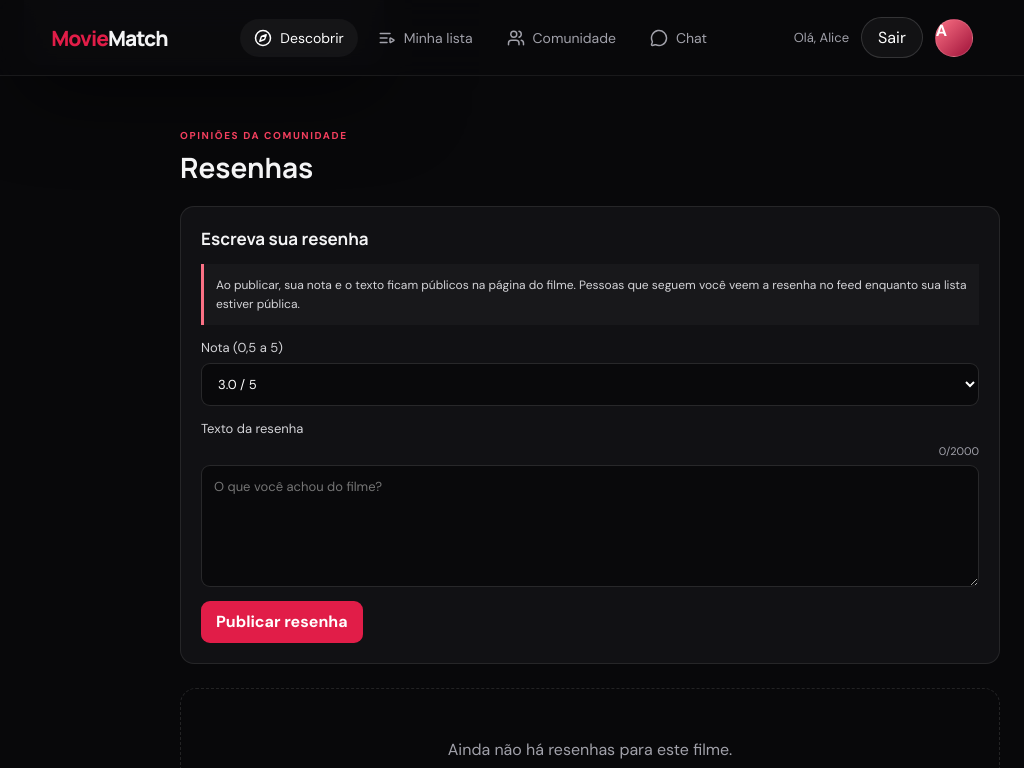
MovieMatch home › creates, edits, and removes the signed-in user movie review
(page scrolled)
Expected: the heading "Escreva sua resenha" is shown, x1=201 y1=227 x2=369 y2=250
Expected: the text "Ao publicar, sua nota e o texto ficam públicos na página do filme" is shown, x1=216 y1=277 x2=966 y2=312
Select "4.5 / 5" in the dropdown labelled "Nota (0,5 a 5)" at (590, 385), box x1=201 y1=363 x2=979 y2=406
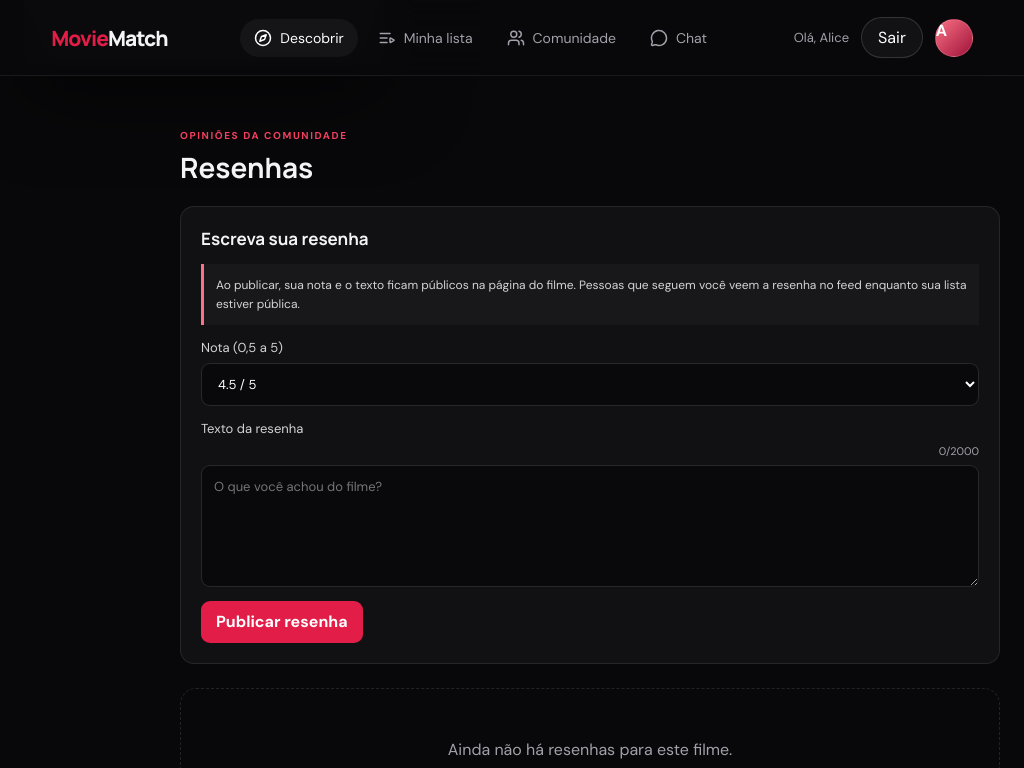
Type "Uma ótima história." into the text box labelled "Texto da resenha 0/2000" at (590, 526), box x1=201 y1=465 x2=979 y2=587
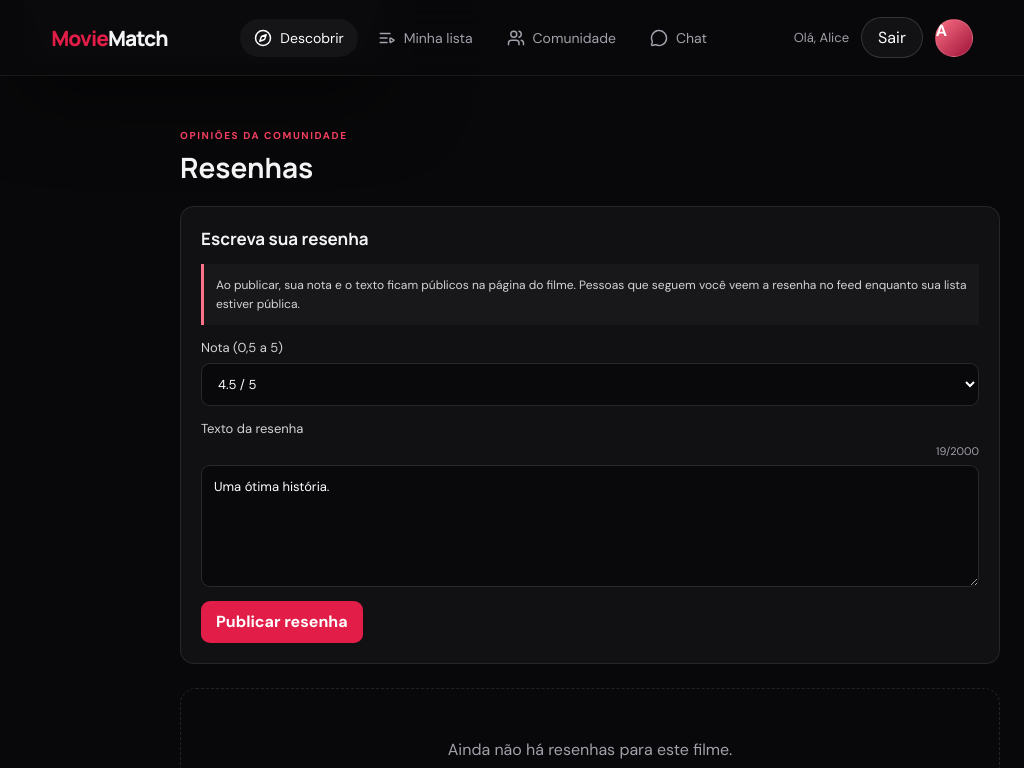
Click the button "Publicar resenha" at (282, 622), box x1=201 y1=601 x2=362 y2=643
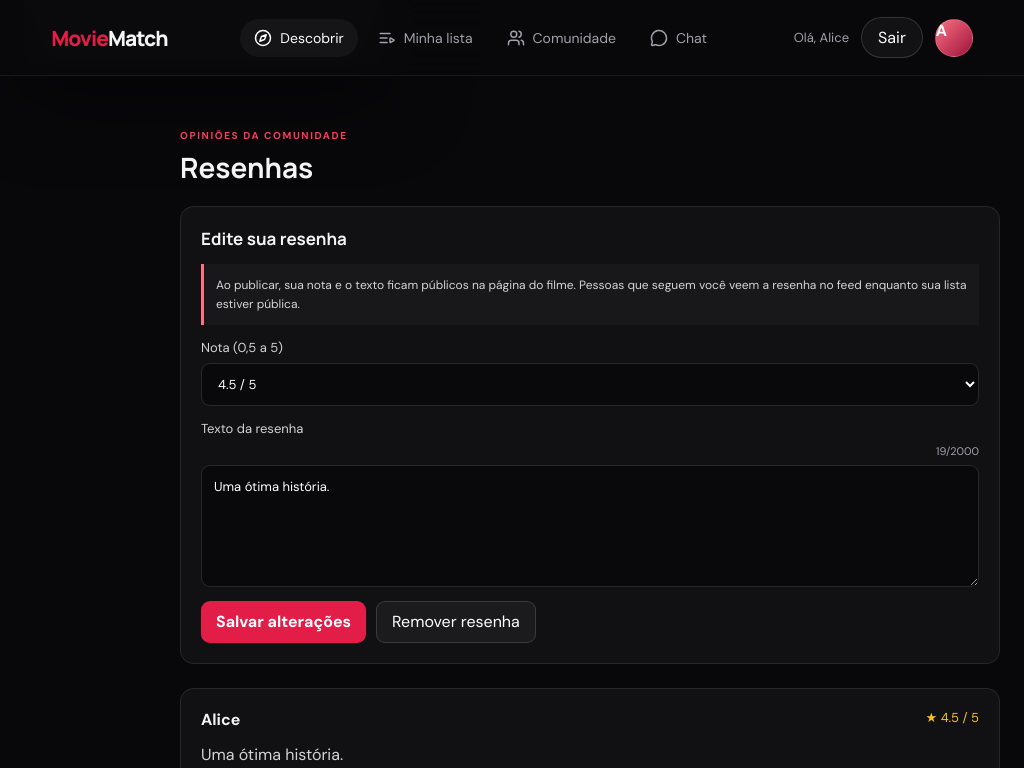
Expected: the text "★ 4.5 / 5" is shown, x1=926 y1=709 x2=979 y2=730
Replace the text in the text box labelled "Texto da resenha 19/2000" with "Uma história excelente." at (590, 526), box x1=201 y1=465 x2=979 y2=587
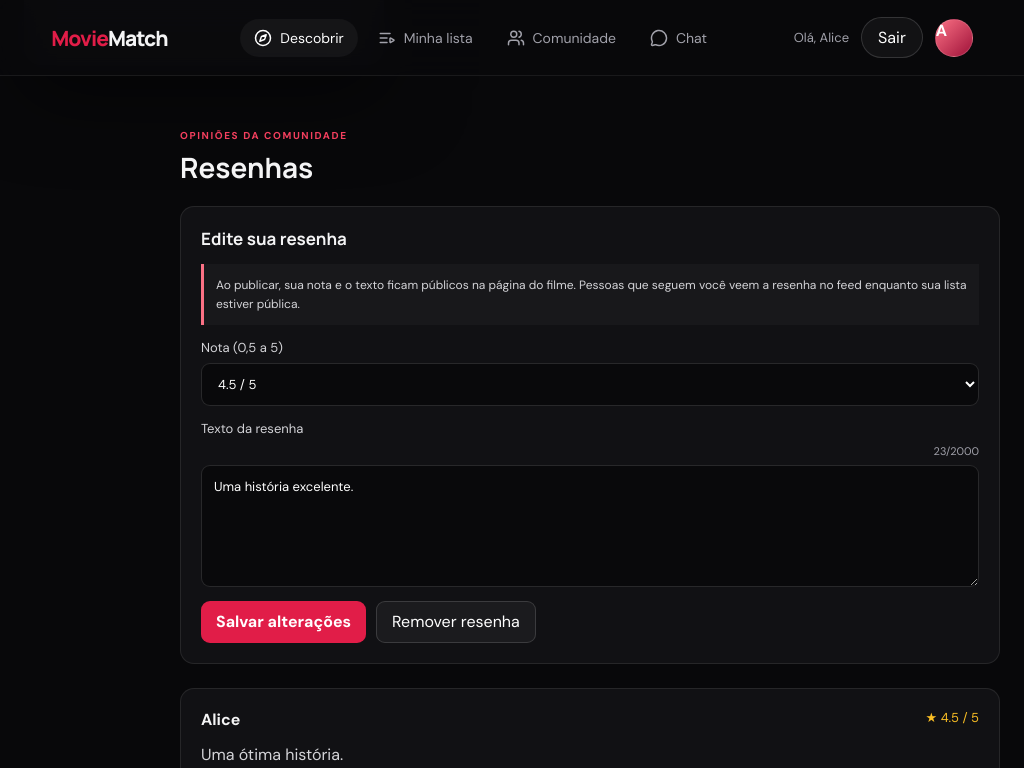
Click the button "Salvar alterações" at (284, 622), box x1=201 y1=601 x2=366 y2=643
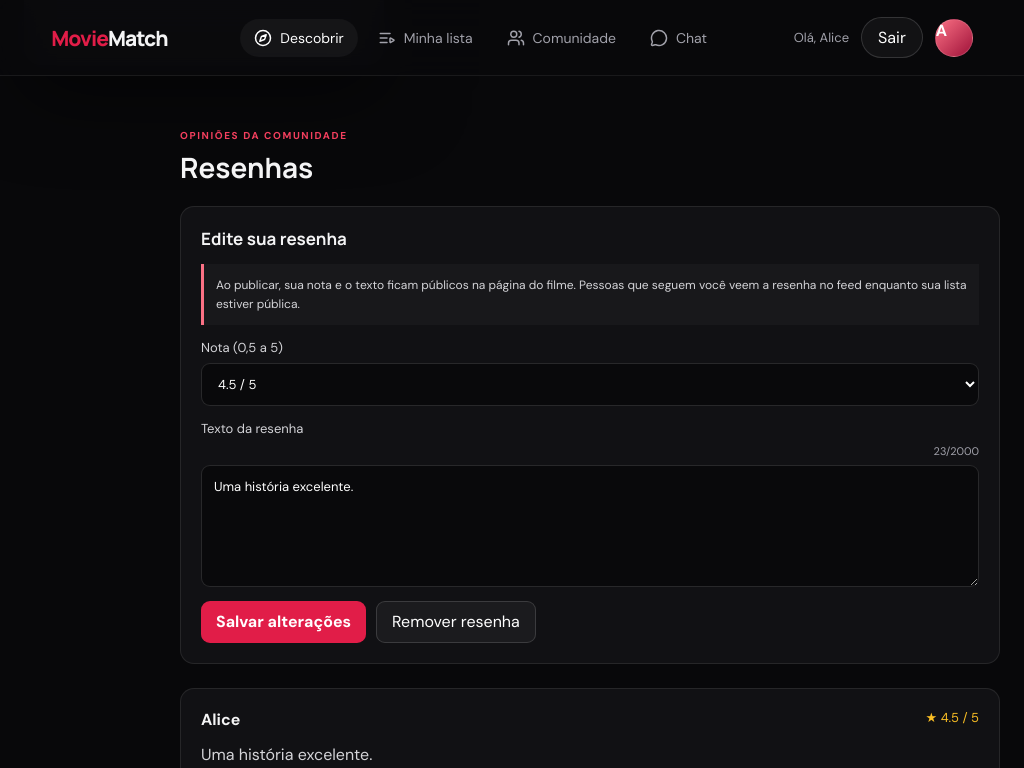
Click the button "Remover resenha" at (456, 622), box x1=376 y1=601 x2=536 y2=643
(page scrolled)
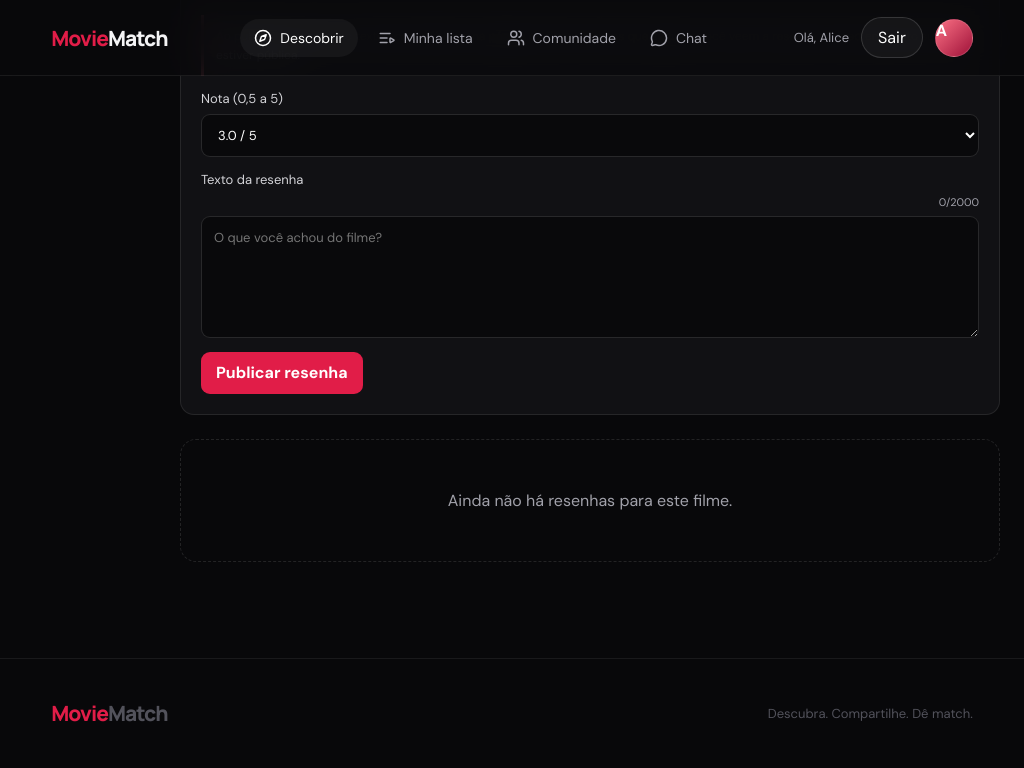
Expected: the text "Ainda não há resenhas para este filme." is shown, x1=180 y1=439 x2=1000 y2=562
